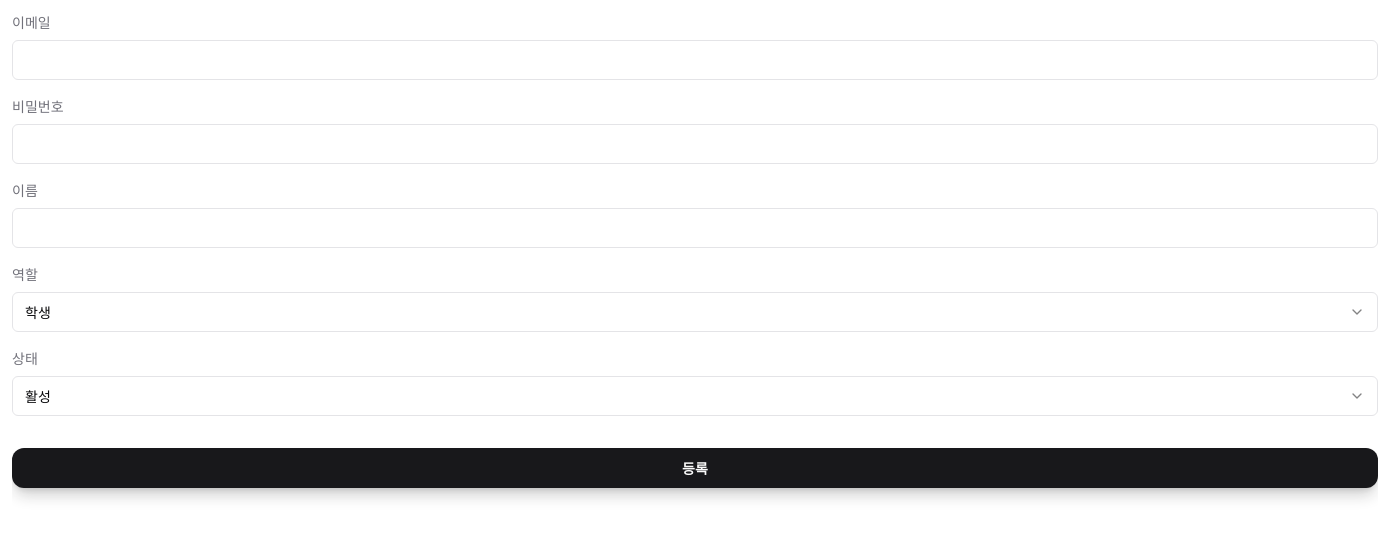
Test case: UserCreateForm › displays validation error when password is less than 8 chars
The width and height of the screenshot is (1390, 545).
Type "test@example.com" into the field labelled "이메일" at (695, 60), box [12,40,1378,80]
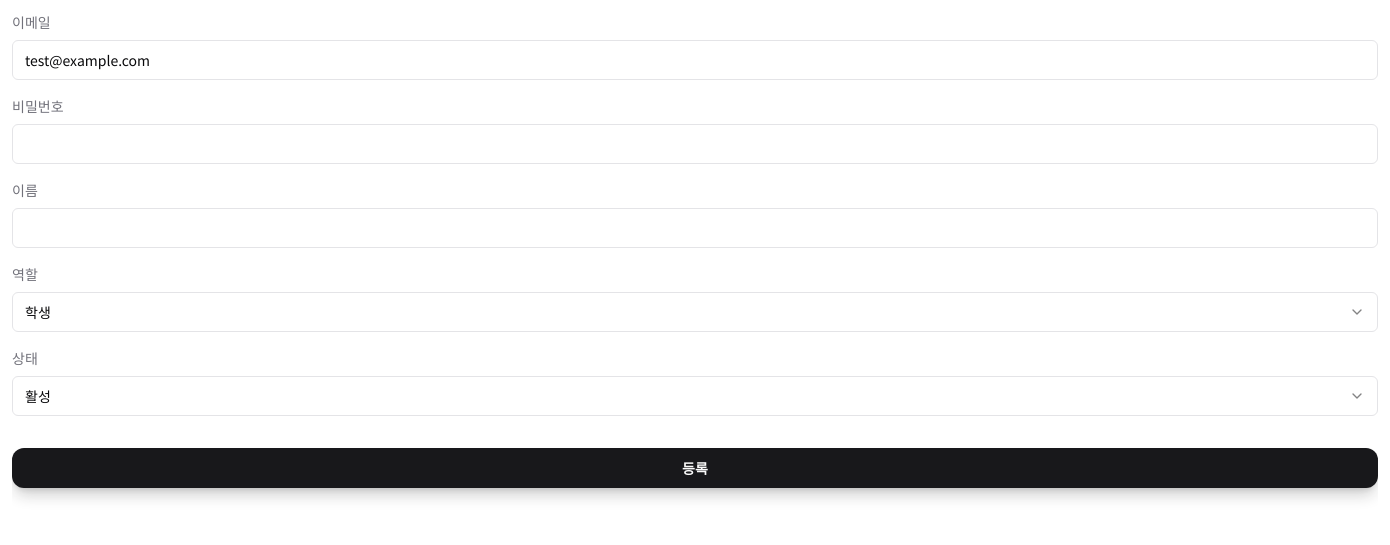
Type "short" into the password field labelled "비밀번호" at (695, 144), box [12,124,1378,164]
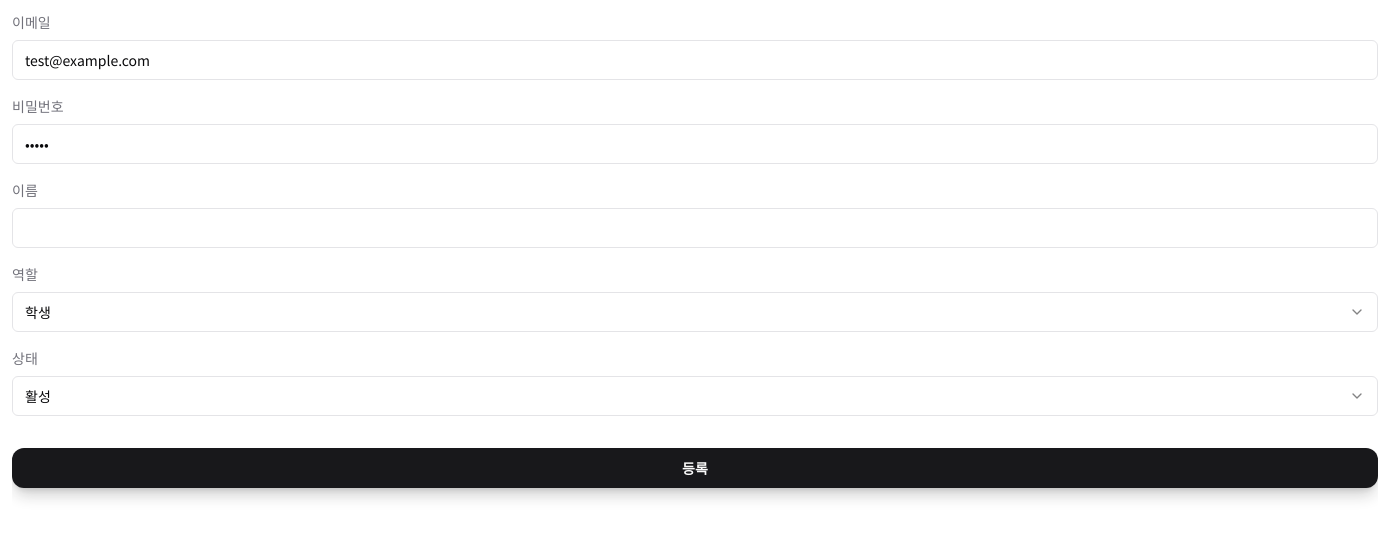
Type "홍길동" into the field labelled "이름" at (695, 228), box [12,208,1378,248]
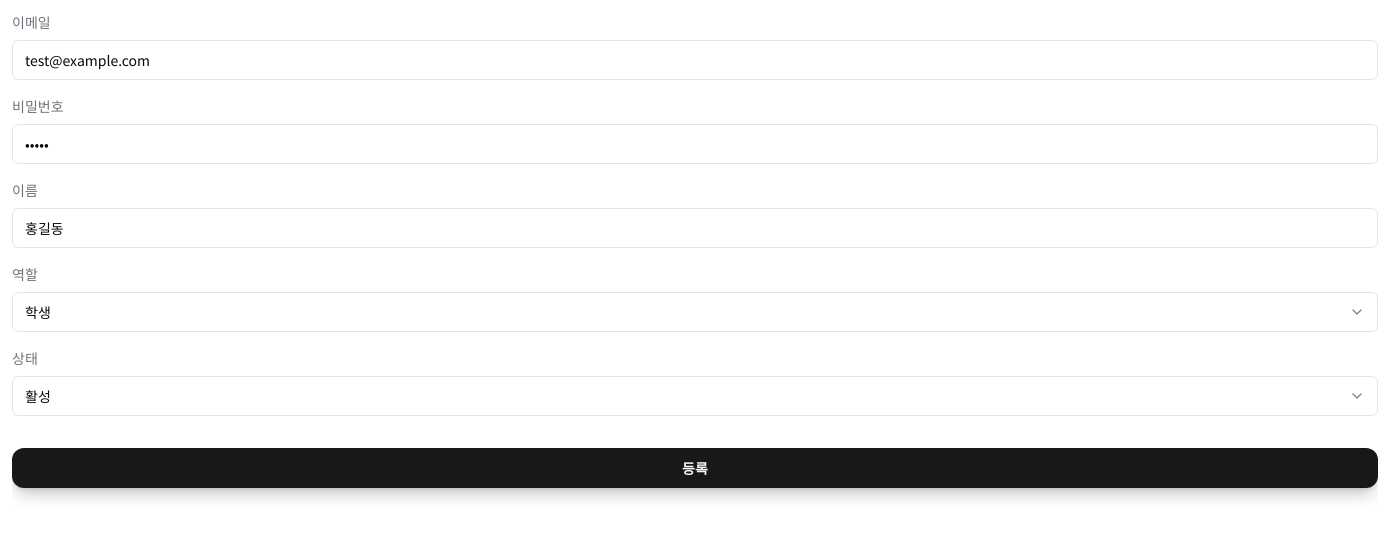
Submit the form
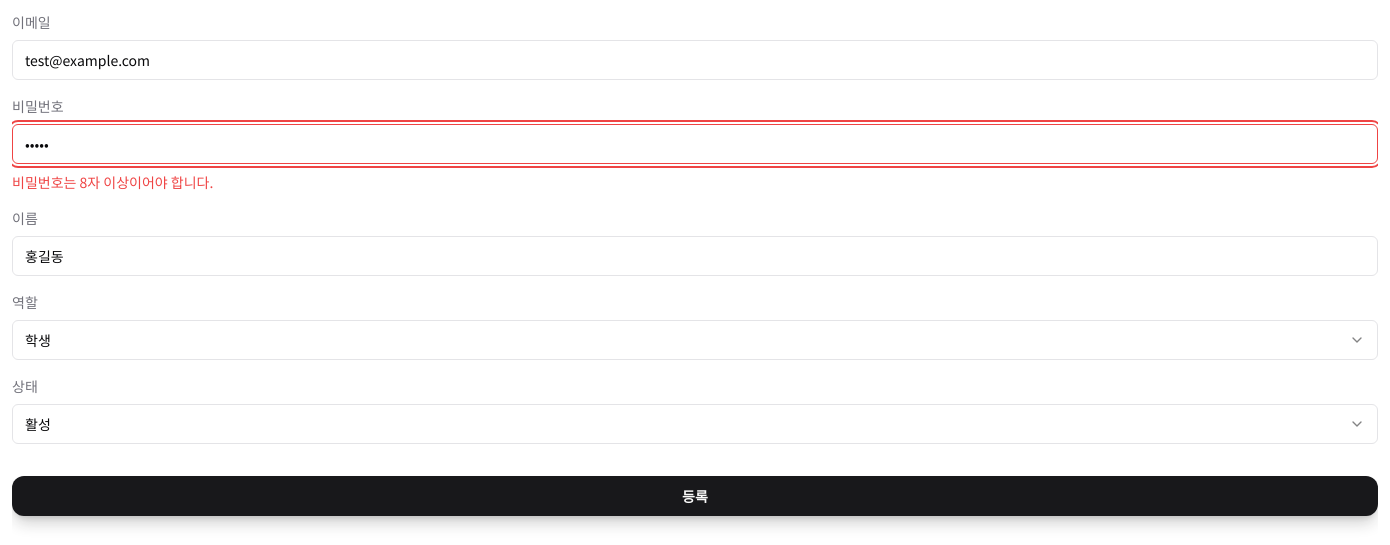
Expected: the text "비밀번호는 8자 이상이어야 합니다." is shown, [12,172,213,192]
